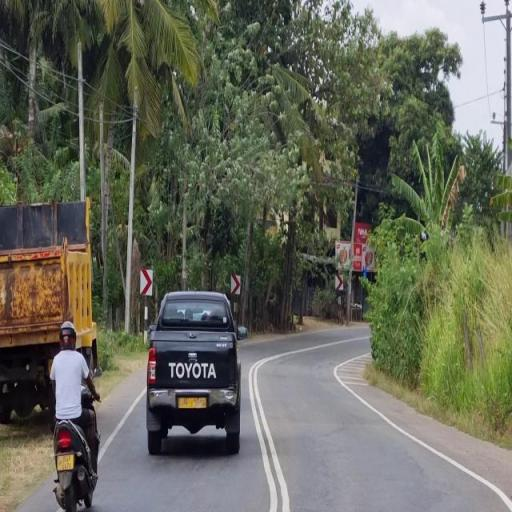double_white_line: (246, 352, 292, 512), (0, 38, 34, 88)
